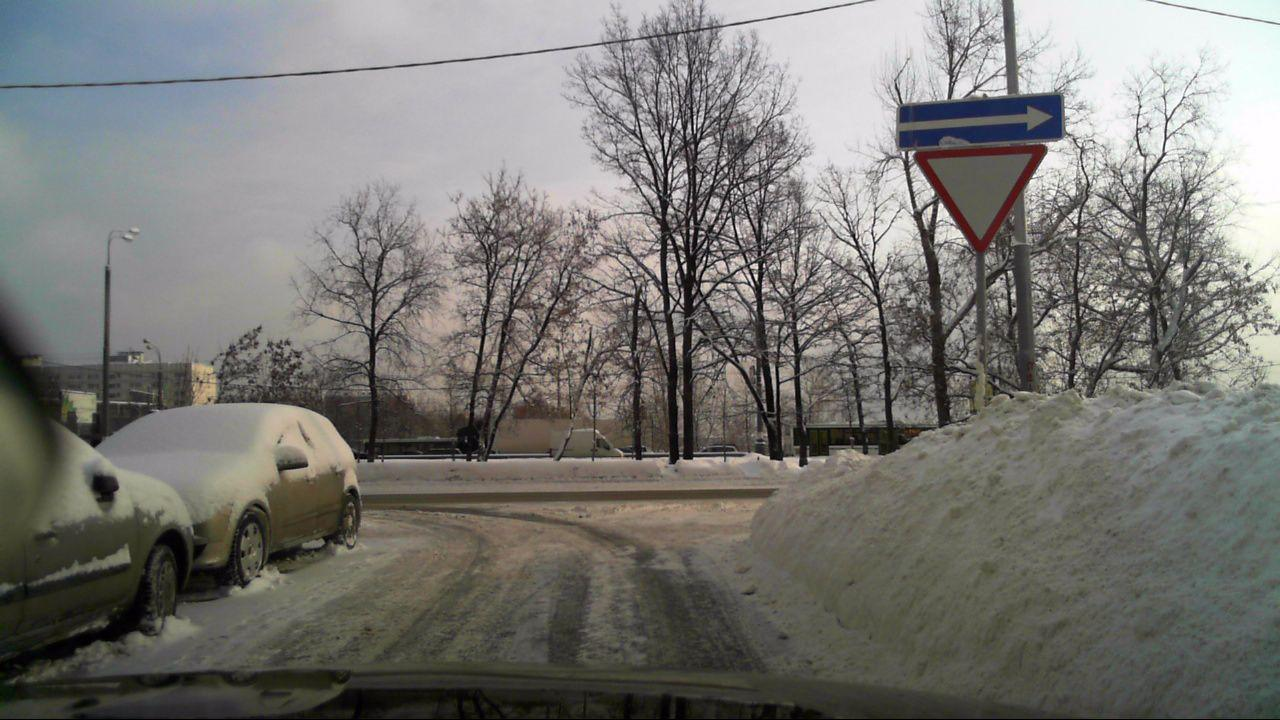2_4: (907, 143, 1047, 251)
5_7_1: (897, 93, 1064, 151)
